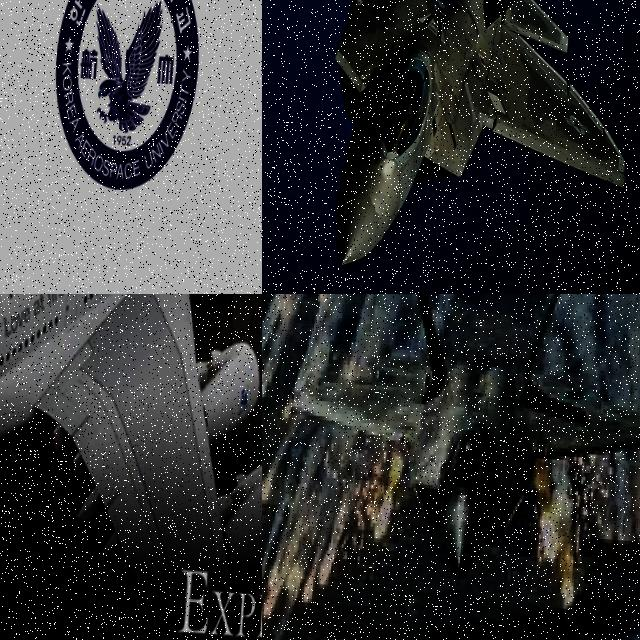A380: (0, 294, 262, 640)
F22: (262, 0, 640, 290), (286, 294, 640, 592), (406, 484, 640, 640)
KAU_Marker: (43, 0, 207, 192)
